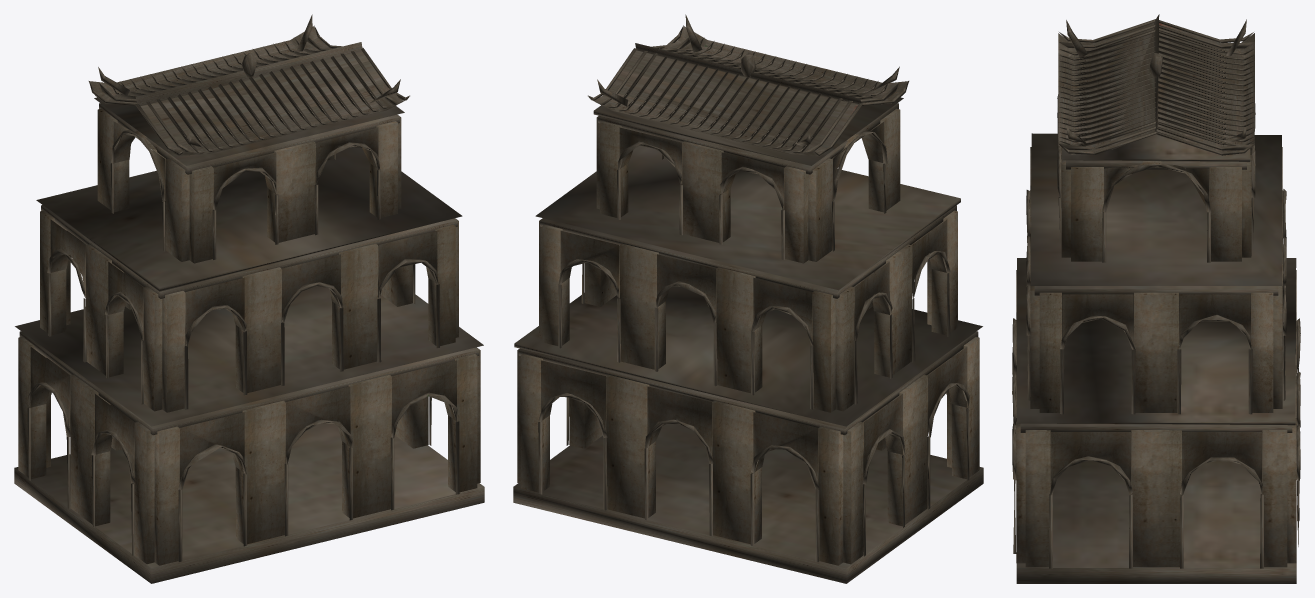
The model's file is thap_rua_lod2.glb.
3 renders of one model, left to right at view 1: azimuth 30°, elevation 25°; view 2: azimuth 150°, elevation 25°; view 3: azimuth 270°, elevation 25°, orthographic.
Parts seen in each view (by area): view 1: thap_rua.001; view 2: thap_rua.001; view 3: thap_rua.001.
Part boxes in pixels (bbox=[...]): thap_rua.001: bbox=[14, 14, 484, 583]; thap_rua.001: bbox=[513, 14, 983, 583]; thap_rua.001: bbox=[1012, 14, 1300, 583].
Bounding box in the file's own units: 6.42 × 7.92 × 4.62.
Materials: 2 (2 with a texture image).
